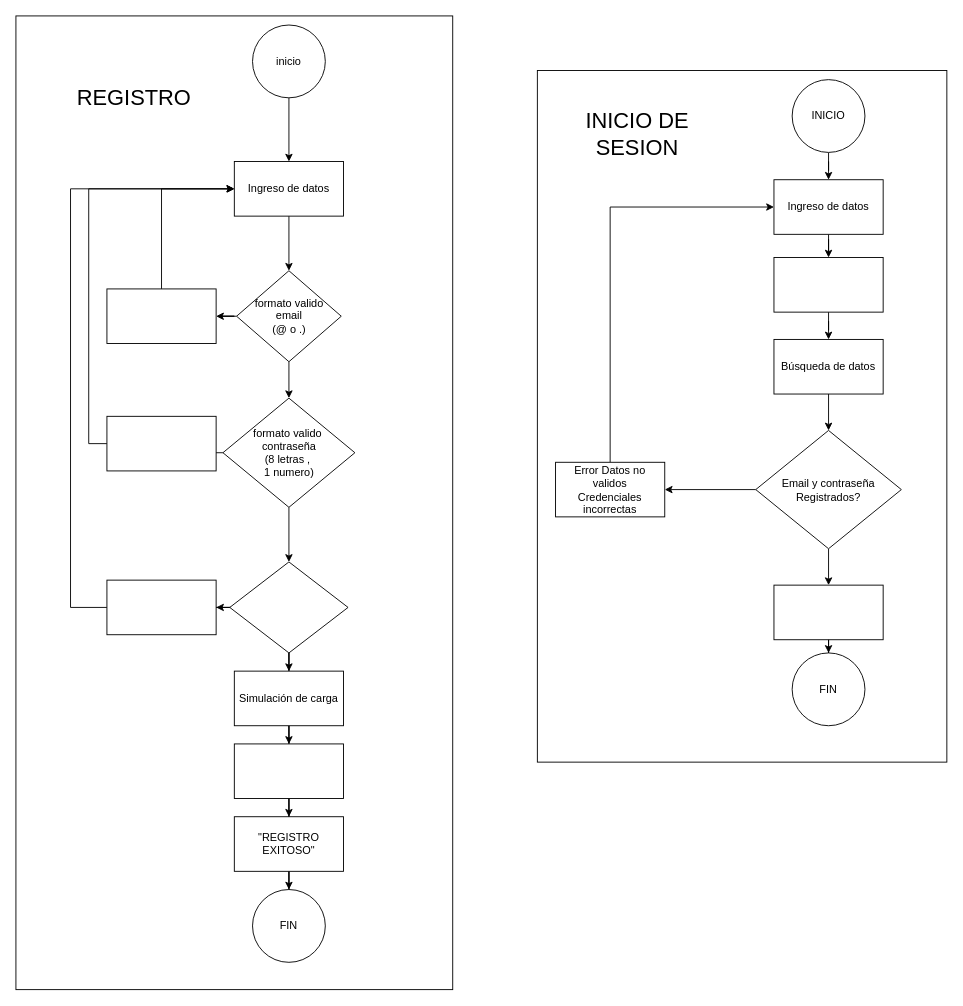
This 963x1006 diagram has some shape labels left out. Each missing label, with the centre of its shape:
Bienvenido/a "Nombre del usuario": (828,612)
Debe ser mayor de 18: (161,607)
Edad > 18: (288,607)
Formato no valido Contraseña: (161,443)
Formato no valido EMAIL: (161,316)
Guardado de datos en localStorage: (288,771)
Simulacion de carga por espera de datos: (828,284)
